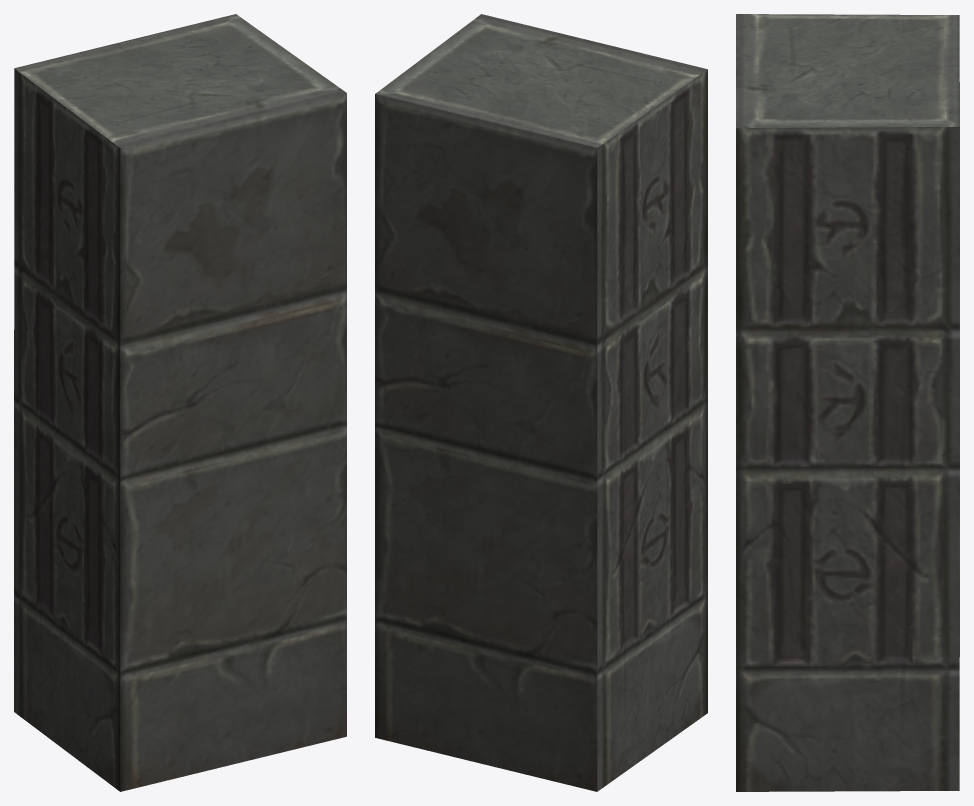
Rendered from F_shizhu010.fbx.
The picture shows the model from 3 angles, left to right: view 1: azimuth 30°, elevation 25°; view 2: azimuth 150°, elevation 25°; view 3: azimuth 270°, elevation 25°; orthographic projection. The views are drawn at different scales.
Parts seen in each view (by area): view 1: F_shizhu010; view 2: F_shizhu010; view 3: F_shizhu010.
Boxes of the visible parts, bbox=[...] form: F_shizhu010: bbox=[14, 14, 346, 791]; F_shizhu010: bbox=[375, 14, 707, 791]; F_shizhu010: bbox=[736, 14, 959, 791].
Size of the model in its own units: 72.83 by 198 by 60.46.
